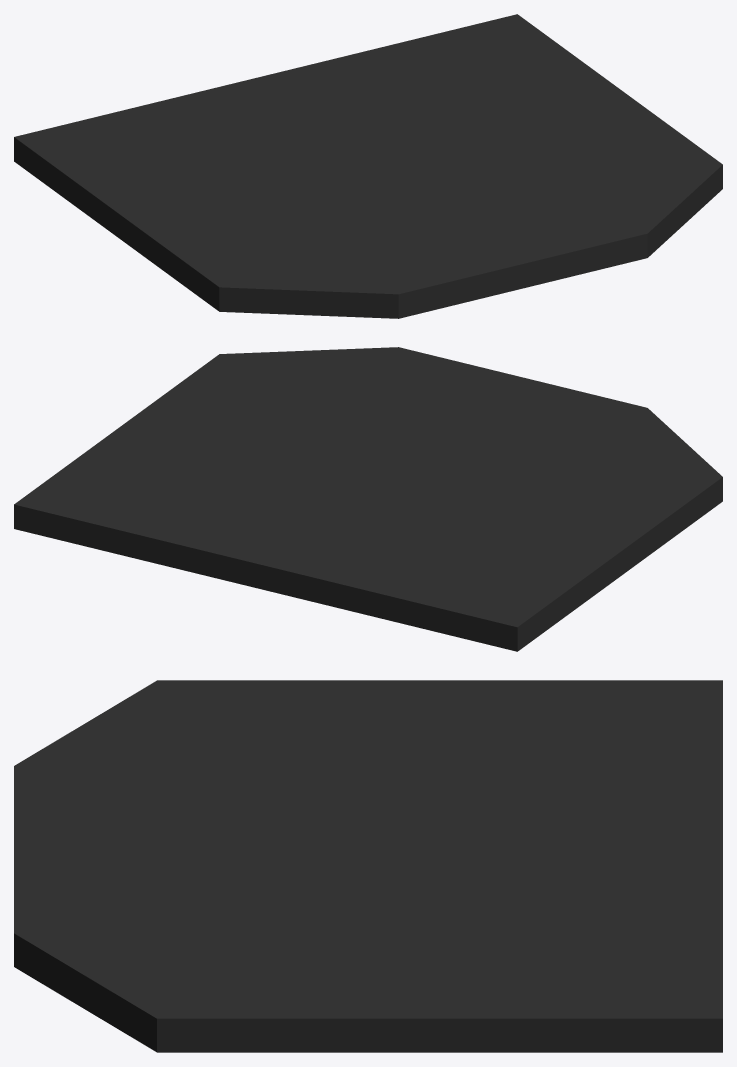
Rendered from SM_Bld_Bridge_Ceiling_01.fbx.
3 renders of one model, top to bottom at view 1: azimuth 30°, elevation 25°; view 2: azimuth 150°, elevation 25°; view 3: azimuth 270°, elevation 25°, orthographic. The views are drawn at different scales.
Visible parts, largest first — view 1: SM_Bld_Bridge_Ceiling_01; view 2: SM_Bld_Bridge_Ceiling_01; view 3: SM_Bld_Bridge_Ceiling_01.
Part boxes in pixels (x1,y1,x2,y2): SM_Bld_Bridge_Ceiling_01: (14, 14, 722, 318); SM_Bld_Bridge_Ceiling_01: (14, 347, 722, 651); SM_Bld_Bridge_Ceiling_01: (14, 680, 722, 1052).
Bounding box in the file's own units: 1596 × 76.43 × 1413.
Materials: 1 (1 with a texture image).
